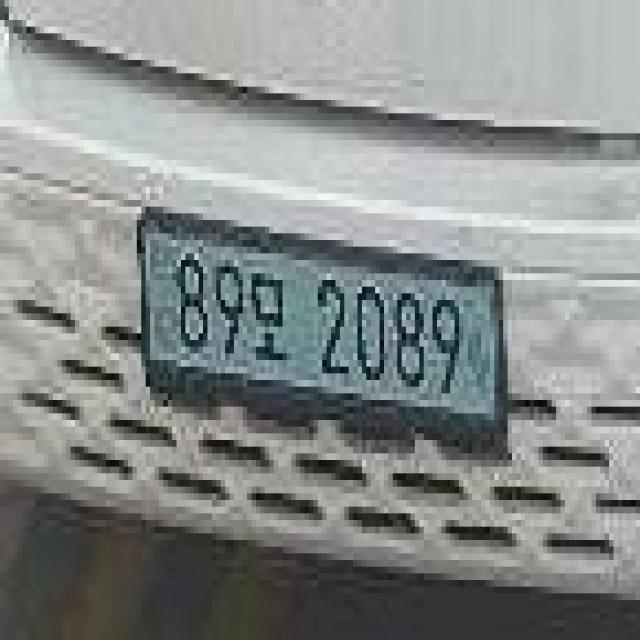EV_plate: (135, 194, 513, 468)
